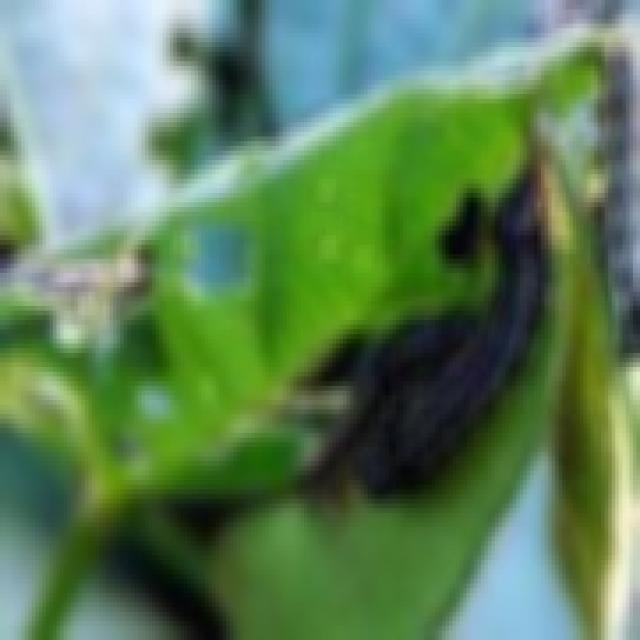army worm: (362, 166, 546, 505), (597, 39, 636, 359)
